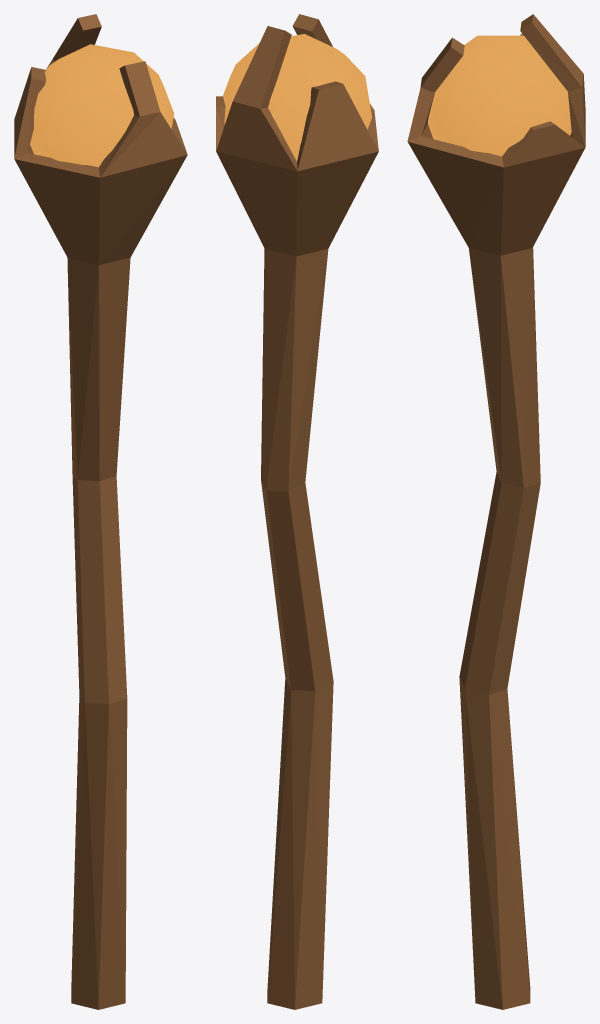
Rendered from Wand.fbx.
3 views of the same model, side by side, from view 1: azimuth 30°, elevation 25°; view 2: azimuth 150°, elevation 25°; view 3: azimuth 270°, elevation 25° (orthographic).
Visible parts, largest first — view 1: Weapon_Wand01; view 2: Weapon_Wand01; view 3: Weapon_Wand01.
Boxes of the visible parts, x1,y1,x2,y2 form: Weapon_Wand01: (14, 14, 187, 1009); Weapon_Wand01: (216, 14, 378, 1009); Weapon_Wand01: (407, 14, 585, 1009).
Bounding box in the file's own units: 35.11 × 202 × 33.2.
